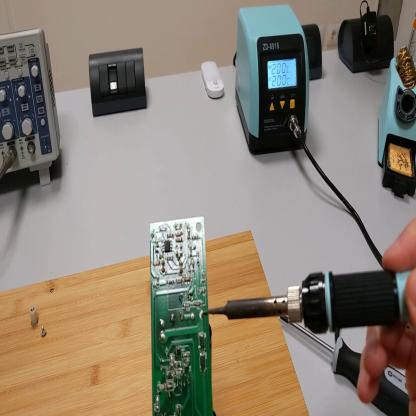hand: (359, 216, 416, 405)
high voltage board: (149, 215, 213, 415)
oscilloscope: (2, 30, 62, 196)
screwdriver-: (278, 316, 412, 416)
socket: (339, 11, 395, 76), (301, 26, 325, 82)
welder base: (378, 18, 416, 200)
welder probe tip: (198, 265, 416, 339)
welder station: (237, 5, 312, 157)
working area: (2, 230, 310, 414)
